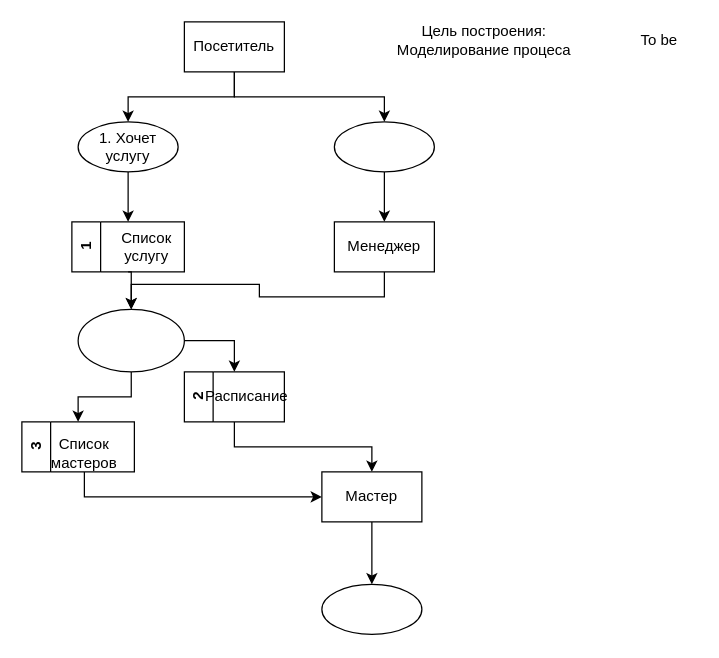
This 719x658 diagram has some shape labels left out. Each missing label, with the centre of its shape:
2. Идет в барбершоп: the point at 383,146
3. Выбирает Время и мастера: the point at 130,340
4. Исполнение услуги: the point at 371,608
